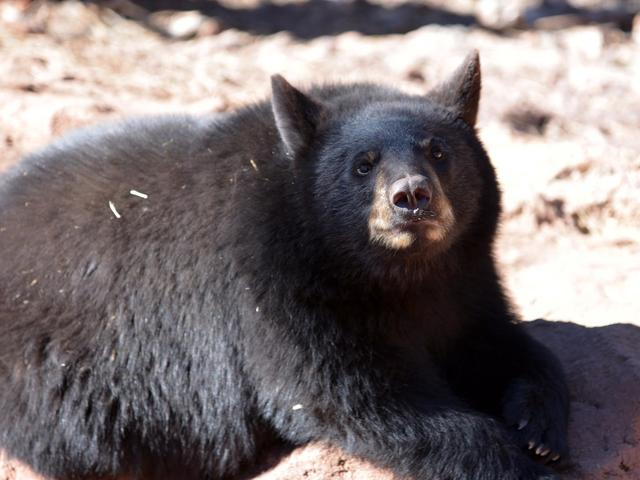Bear: (8, 71, 579, 470)
